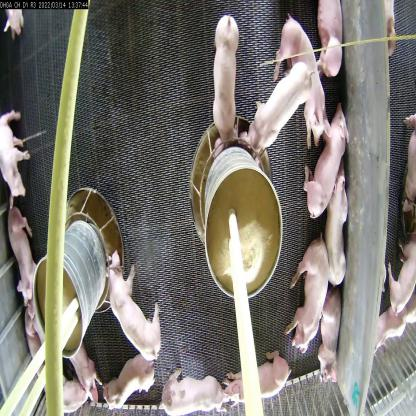Pig: (270, 7, 329, 149), (108, 254, 165, 368), (245, 57, 309, 158), (288, 238, 332, 352), (222, 344, 290, 415), (312, 108, 352, 227), (208, 10, 244, 142), (101, 355, 168, 415), (67, 330, 110, 416), (324, 178, 355, 294), (12, 202, 42, 310), (153, 370, 224, 415), (315, 301, 346, 400), (0, 98, 28, 207)
